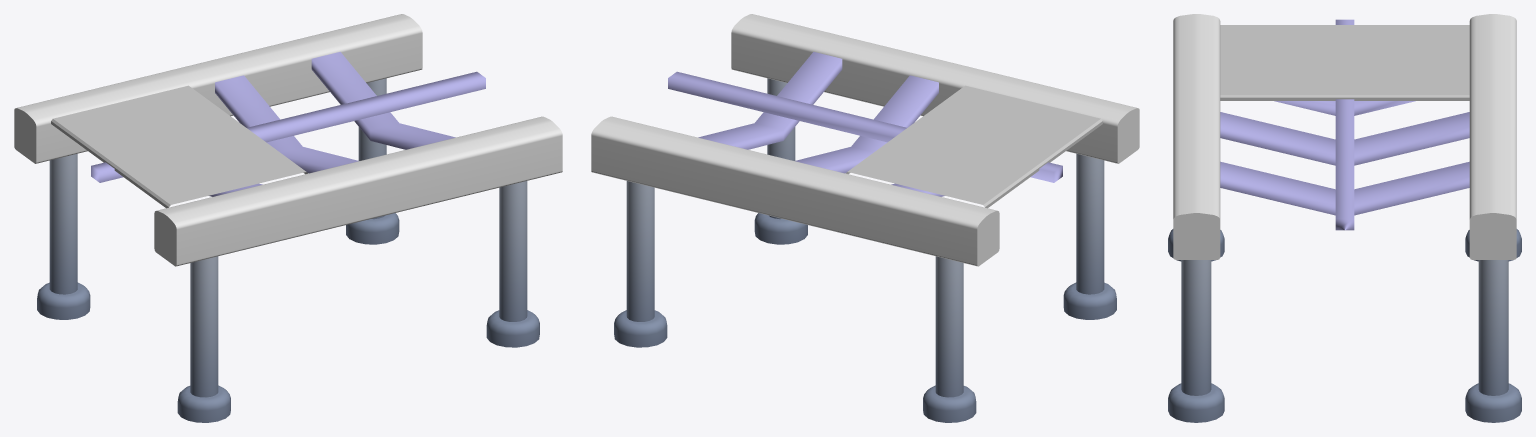
Rendered from New_Rail_Exit.fbx.
The picture shows the model from 3 angles, left to right: view 1: azimuth 30°, elevation 25°; view 2: azimuth 150°, elevation 25°; view 3: azimuth 270°, elevation 25°; orthographic projection. The views are drawn at different scales.
Parts seen in each view (by area): view 1: New_Rail_Exit; view 2: New_Rail_Exit; view 3: New_Rail_Exit.
Boxes of the visible parts, x1,y1,x2,y2 form: New_Rail_Exit: [14, 14, 562, 422]; New_Rail_Exit: [591, 14, 1139, 422]; New_Rail_Exit: [1168, 14, 1521, 422].
Bounding box in the file's own units: 100 × 51 × 75.12.
